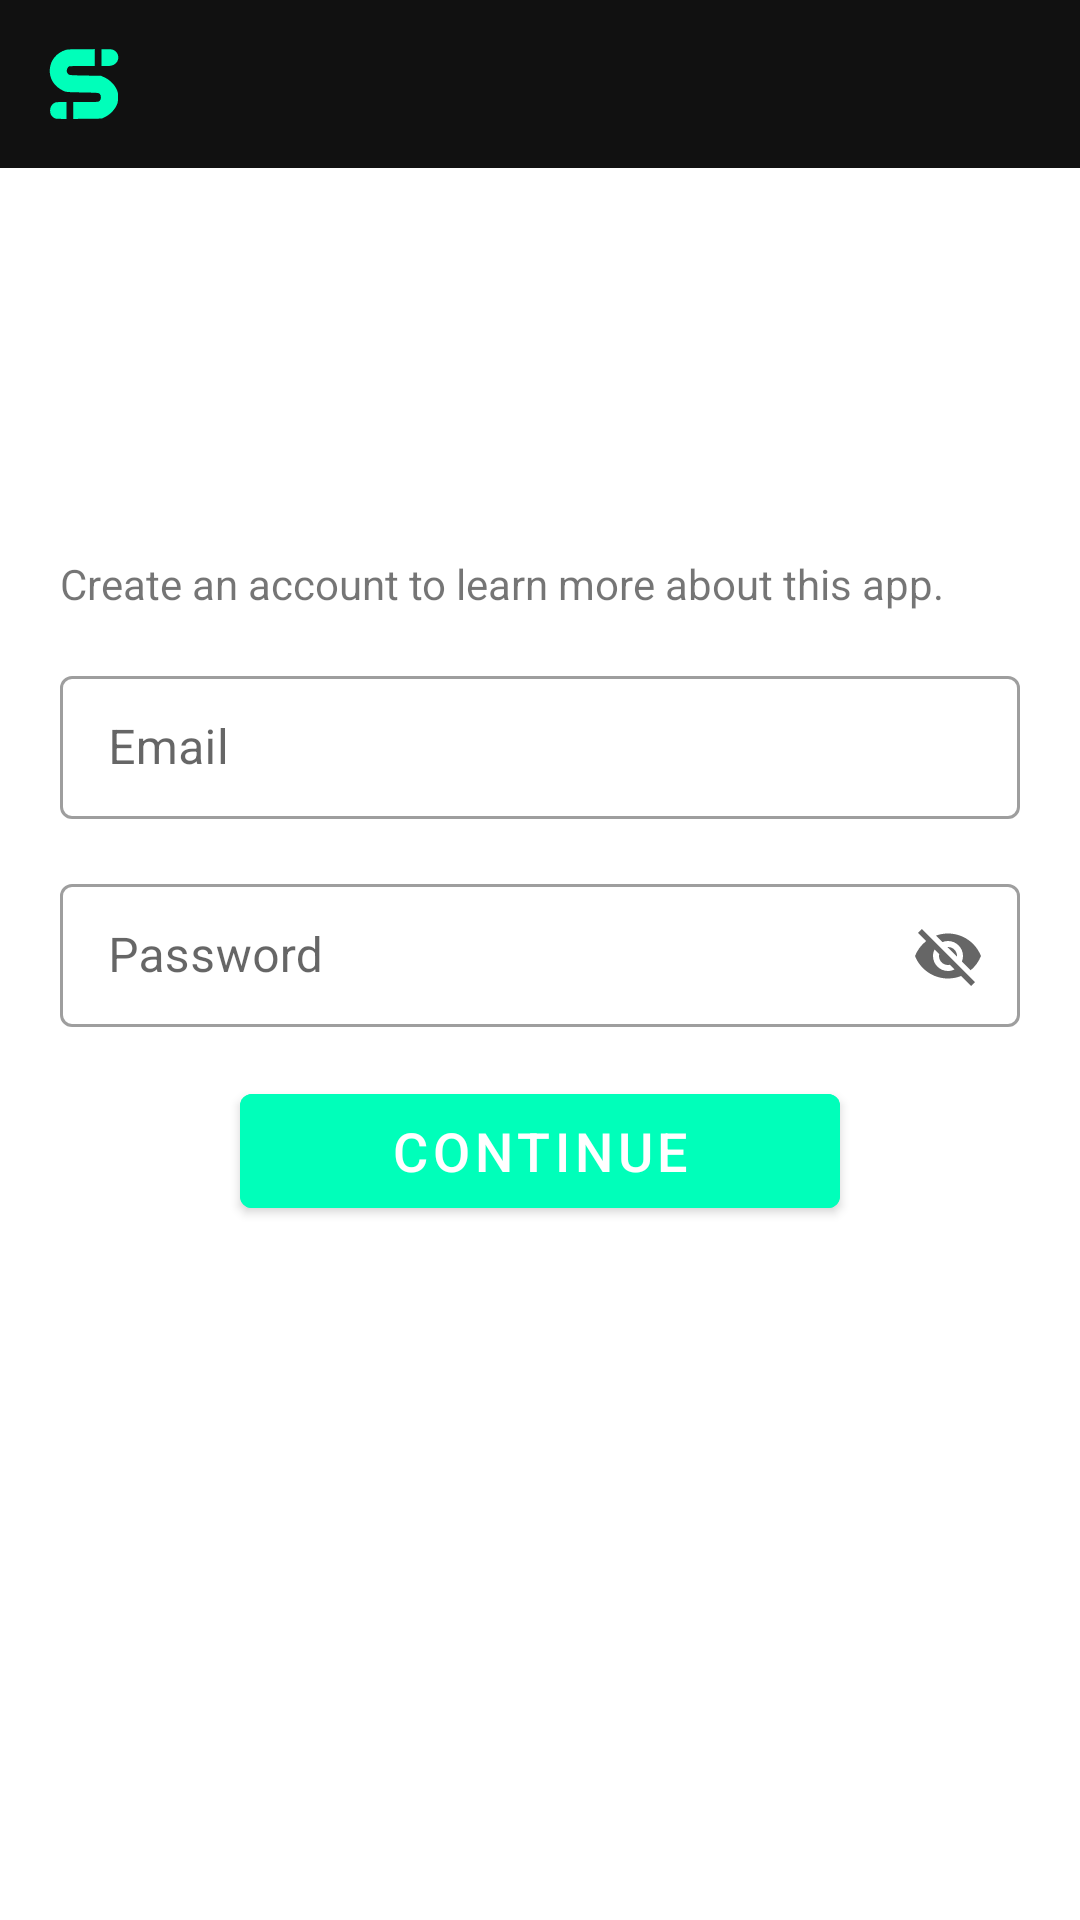

Where icons sit on this 1080×1920 app screen, as {"x1": x1, "y1": y1, "x2": x2, "y2": y2}:
appicon: {"x1": 49, "y1": 49, "x2": 119, "y2": 119}
